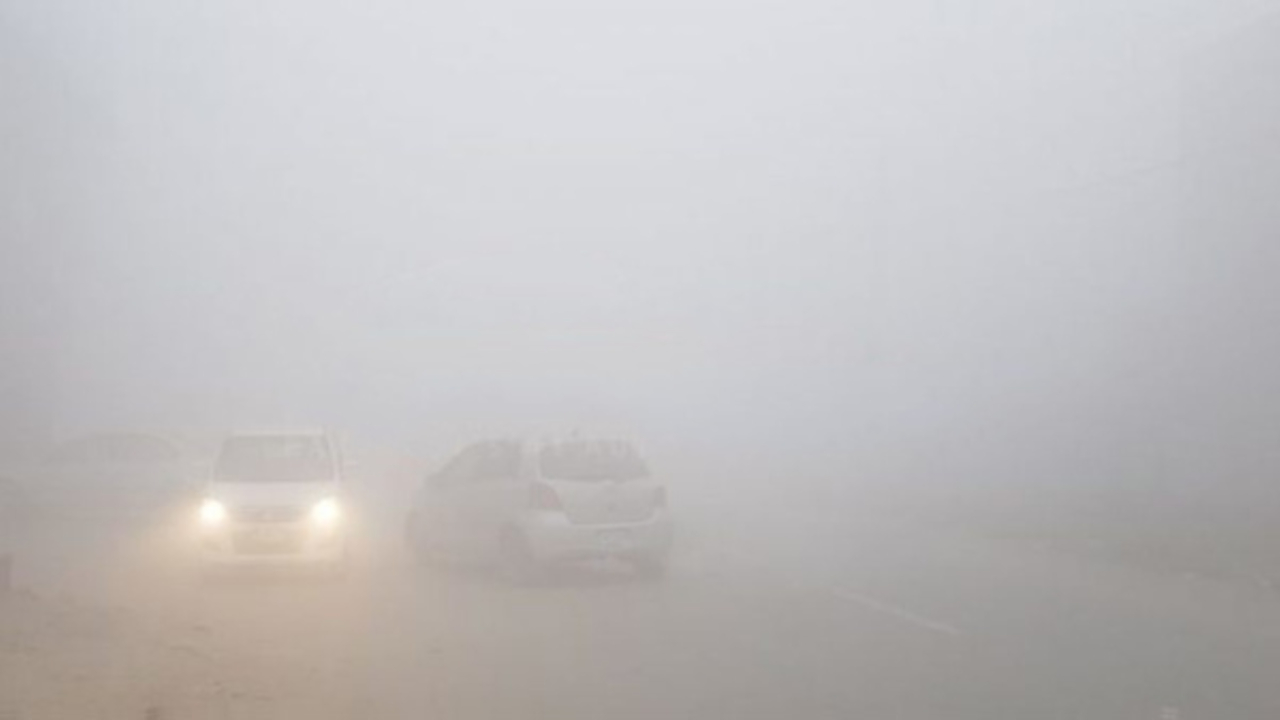car: (407, 424, 674, 579), (195, 425, 354, 581), (1, 418, 215, 529)
